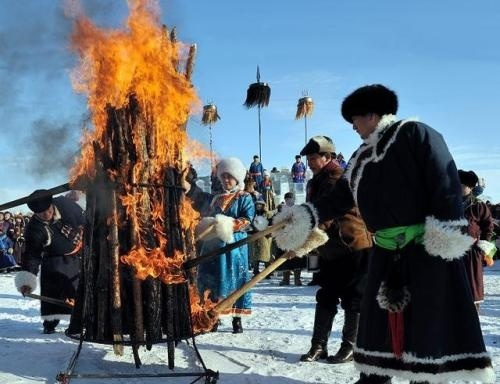fire: (55, 15, 237, 332)
